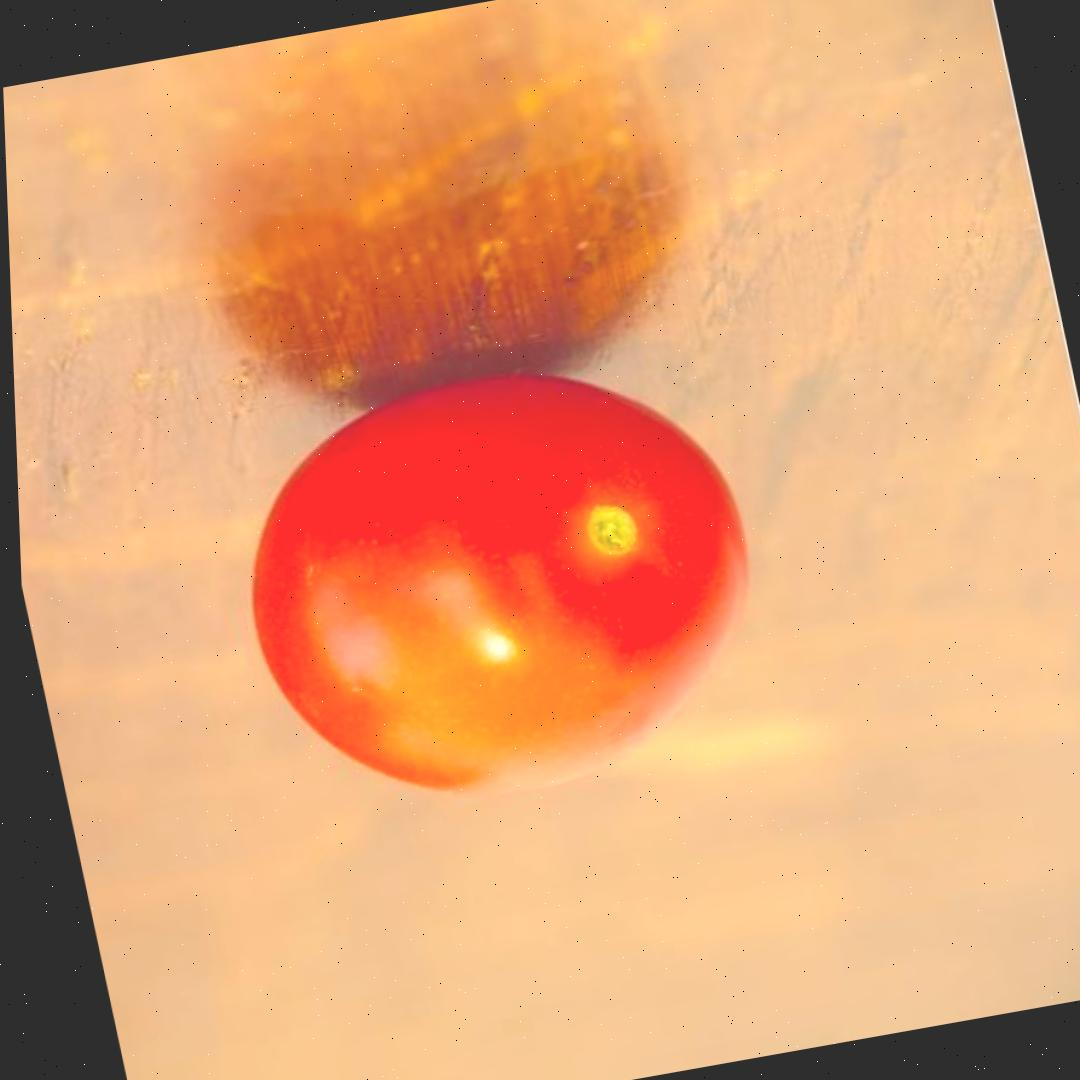matang: (206, 335, 797, 835)
